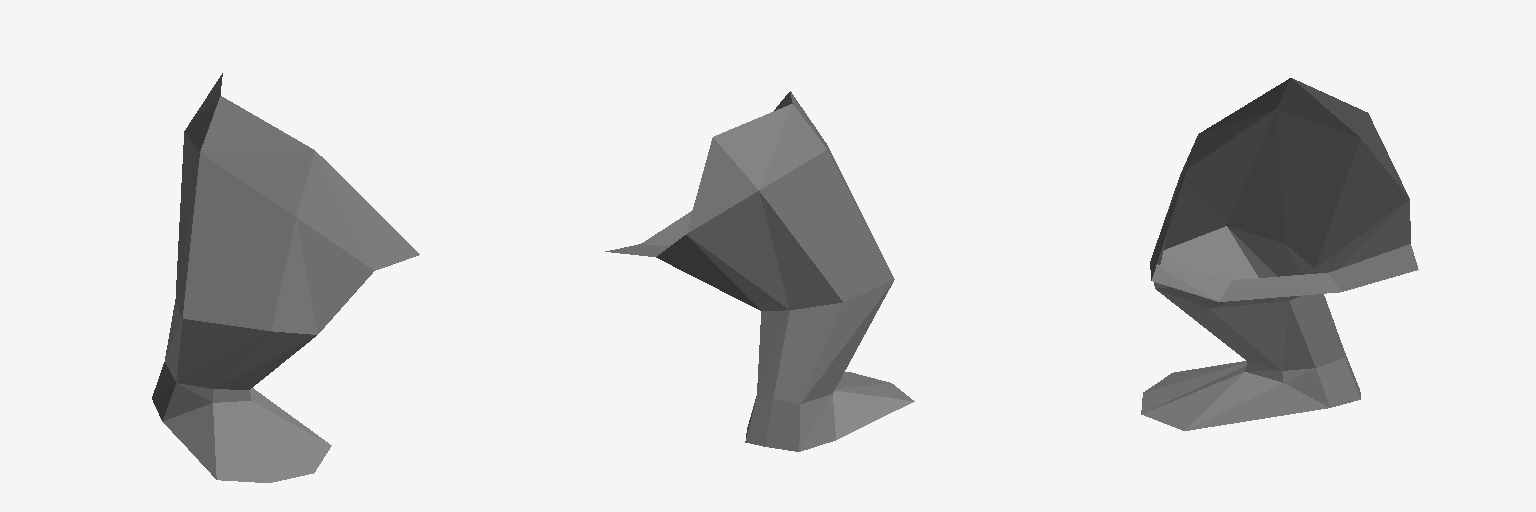
File: Perry_PiernaD.obj
3 renders of one model, left to right at view 1: azimuth 30°, elevation 25°; view 2: azimuth 150°, elevation 25°; view 3: azimuth 270°, elevation 25°, orthographic.
Parts seen in each view (by area): view 1: PiernaD; view 2: PiernaD; view 3: PiernaD.
Part boxes in pixels (bbox=[...]): PiernaD: bbox=[152, 73, 419, 482]; PiernaD: bbox=[605, 91, 914, 451]; PiernaD: bbox=[1141, 78, 1418, 430].
Bounding box in the file's own units: 0.9564 × 1.5 × 1.15.